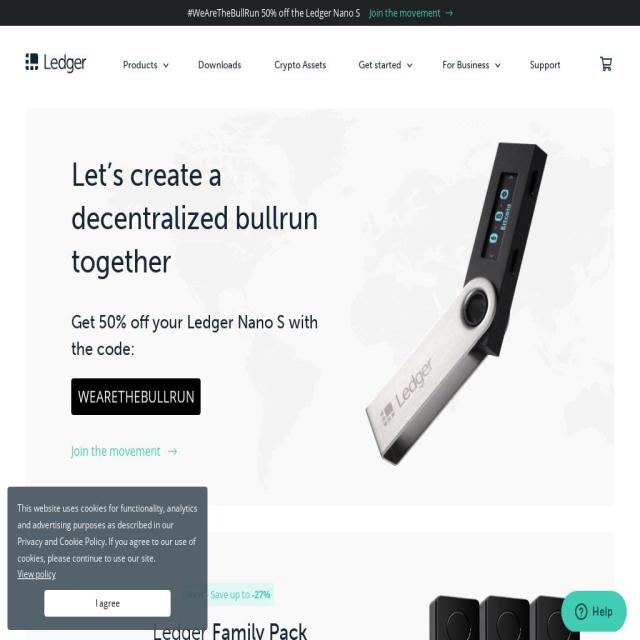button: (44, 590, 170, 617), (18, 566, 196, 582), (71, 440, 178, 462), (369, 4, 453, 23), (442, 50, 497, 78), (274, 50, 326, 78), (359, 50, 410, 78), (122, 50, 166, 78), (198, 50, 242, 78), (25, 54, 86, 74), (530, 50, 561, 78)
heading: (71, 152, 320, 282), (71, 308, 320, 362), (212, 618, 308, 640), (152, 618, 212, 640)
iframe: (558, 590, 628, 632)
image: (366, 142, 548, 466), (428, 594, 583, 640), (25, 54, 86, 74)
text: (18, 500, 198, 565), (71, 378, 201, 416), (187, 5, 362, 21), (204, 586, 252, 602), (251, 586, 271, 602), (185, 586, 204, 602)
